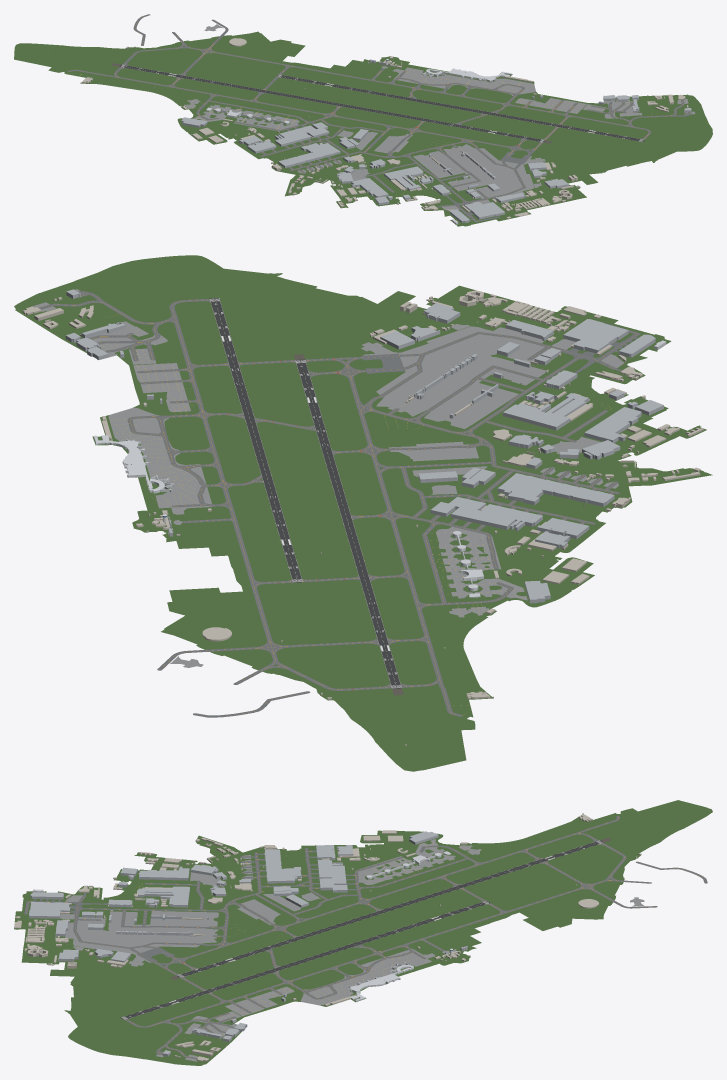
File: LFBO.glb
The picture shows the model from 3 angles, top to bottom: view 1: azimuth 30°, elevation 25°; view 2: azimuth 150°, elevation 25°; view 3: azimuth 270°, elevation 25°; orthographic projection. The views are drawn at different scales.
Parts seen in each view (by area): view 1: grass, apron, taxiway, hangars, buildings, runway, terminals; view 2: grass, apron, taxiway, hangars, buildings, runway, terminals, markings, taxi_lines; view 3: grass, apron, taxiway, hangars, buildings, runway, terminals.
Boxes of the visible parts, left/top/right/bottom form: grass: left=14, top=31, right=712, bottom=226; apron: left=184, top=24, right=694, bottom=210; taxiway: left=68, top=14, right=691, bottom=222; hangars: left=181, top=59, right=691, bottom=222; buildings: left=49, top=38, right=688, bottom=218; runway: left=119, top=64, right=644, bottom=142; terminals: left=206, top=68, right=511, bottom=224; grass: left=14, top=255, right=712, bottom=771; apron: left=32, top=289, right=624, bottom=667; taxiway: left=39, top=291, right=640, bottom=717; hangars: left=65, top=289, right=663, bottom=603; buildings: left=22, top=290, right=703, bottom=745; runway: left=209, top=298, right=401, bottom=688; terminals: left=93, top=340, right=666, bottom=597; markings: left=209, top=298, right=401, bottom=688; taxi_lines: left=54, top=294, right=622, bottom=716; grass: left=14, top=800, right=712, bottom=1065; apron: left=60, top=839, right=644, bottom=1061; taxiway: left=24, top=816, right=707, bottom=1059; hangars: left=29, top=831, right=468, bottom=1056; buildings: left=14, top=813, right=678, bottom=1061; runway: left=120, top=840, right=603, bottom=1019; terminals: left=32, top=851, right=450, bottom=1001.
Bounding box in the file's own units: 4147 × 41.2 × 4608.
